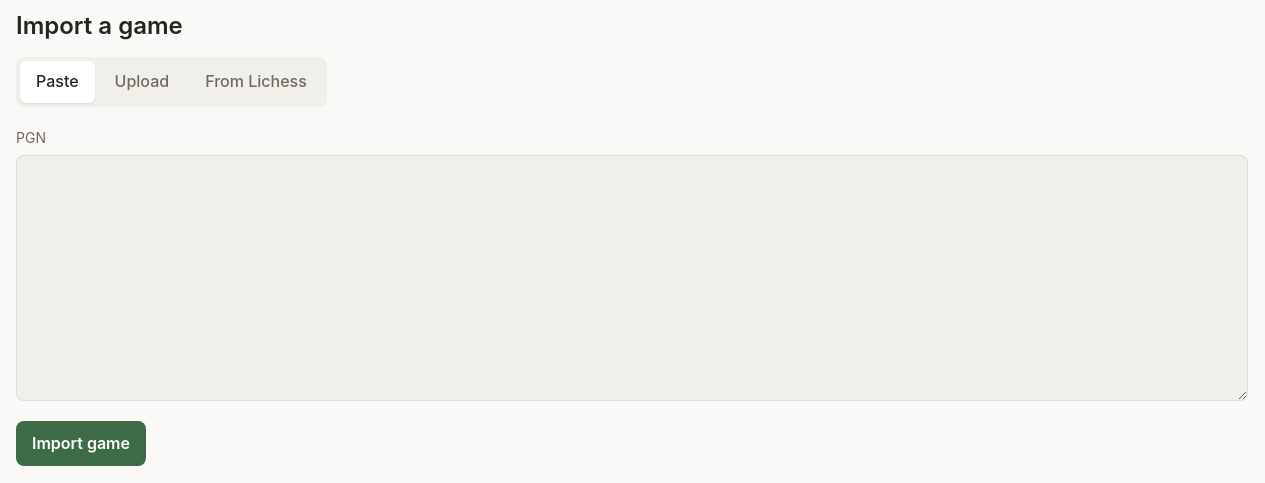
ImportPage › a 422 missing-color response renders ColorConfirm
Type "1. e4 e5" into the text box labelled "PGN". click: [632, 278]
box: [16,155,1248,401]
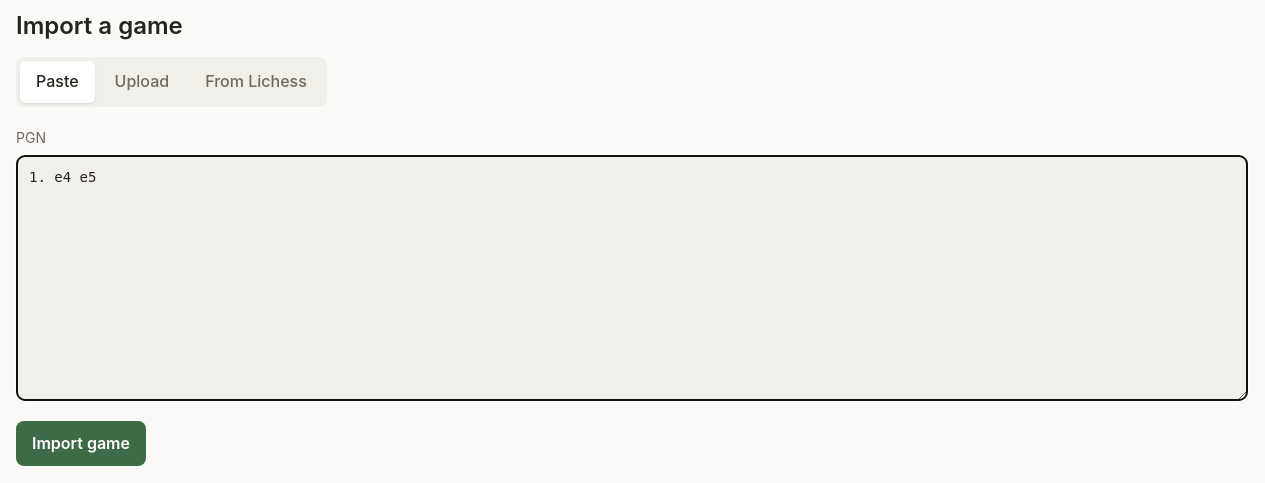
Click the button "Import game". click: [81, 444]
box: [16,421,146,466]
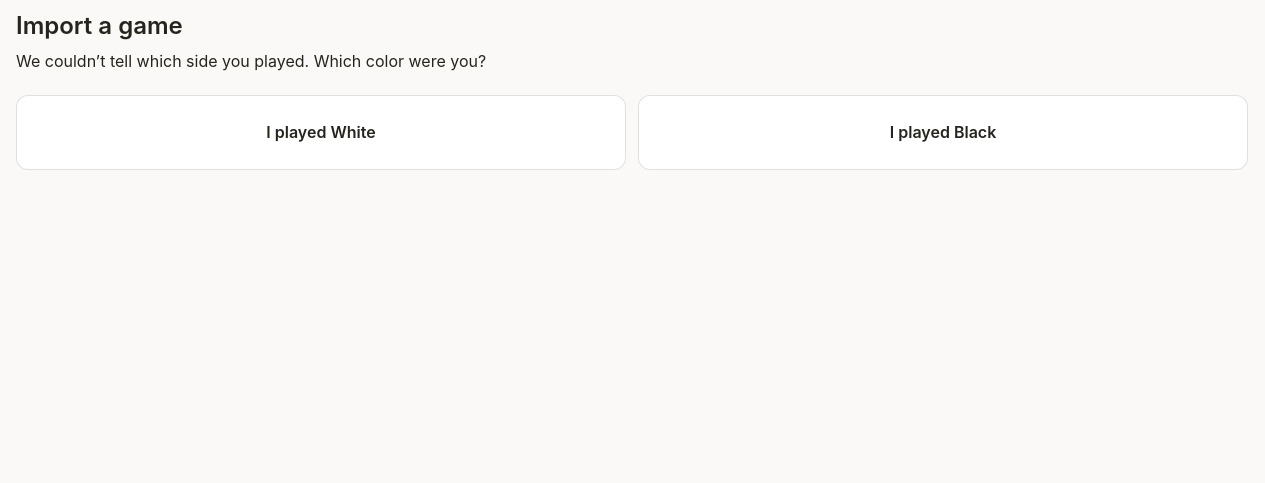
Result: the button "I played White" is shown at [16,95,626,170]
